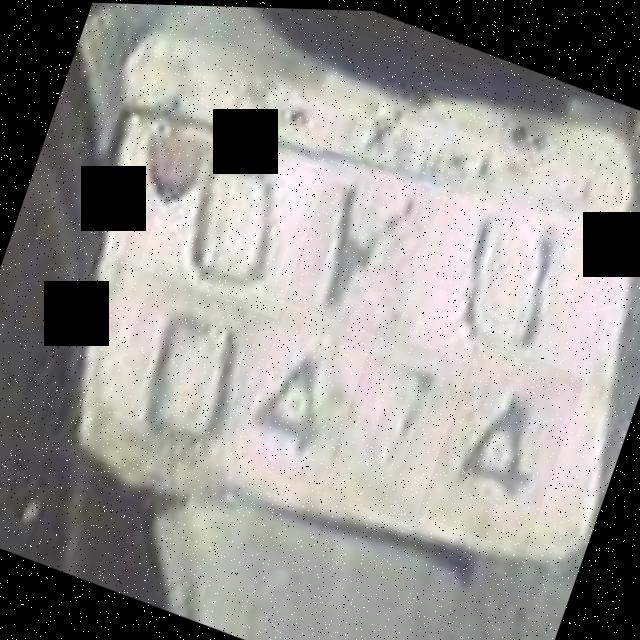0: (97, 258, 285, 480)
4: (204, 281, 380, 509), (417, 334, 585, 552)
D: (320, 306, 480, 526)
O: (137, 117, 328, 320)
U: (409, 169, 600, 389)
Y: (271, 145, 443, 342)
